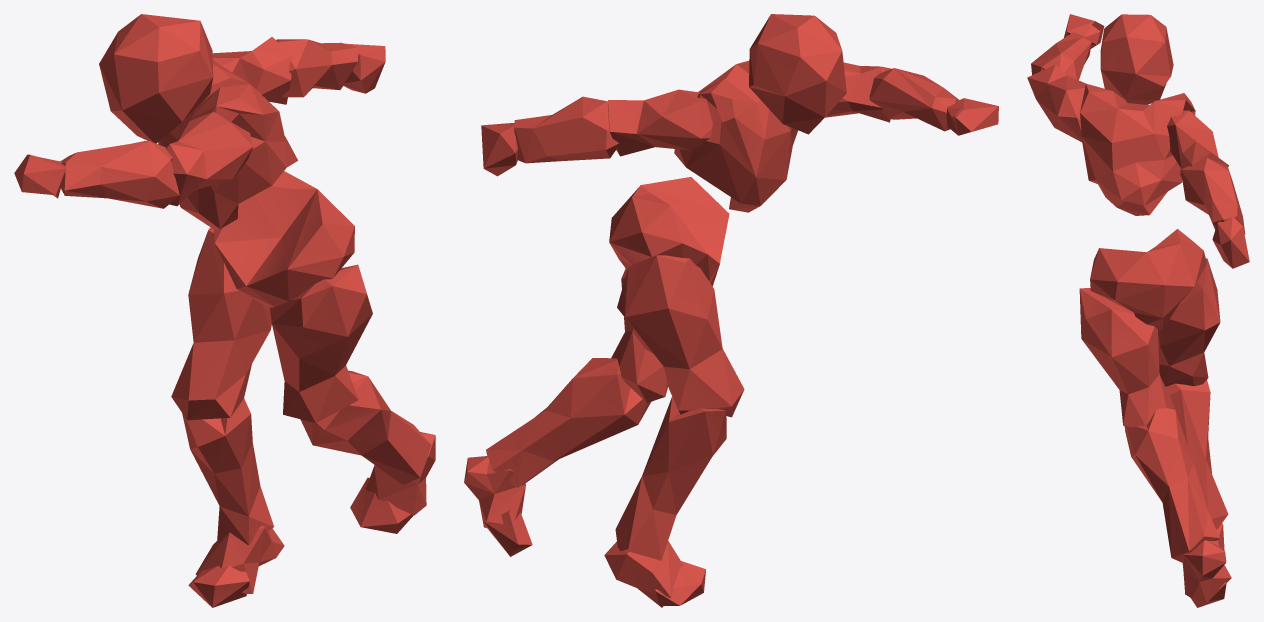
The model's file is 2dancer0192.obj.
The picture shows the model from 3 angles, left to right: view 1: azimuth 30°, elevation 25°; view 2: azimuth 150°, elevation 25°; view 3: azimuth 270°, elevation 25°; orthographic projection. The views are drawn at different scales.
Parts seen in each view (by area): view 1: Beta_Surface; view 2: Beta_Surface; view 3: Beta_Surface.
Part boxes in pixels (bbox=[...]): Beta_Surface: bbox=[14, 14, 435, 607]; Beta_Surface: bbox=[464, 14, 998, 607]; Beta_Surface: bbox=[1027, 14, 1249, 607].
Bounding box in the file's own units: 1.4 × 1.71 × 0.6895.
